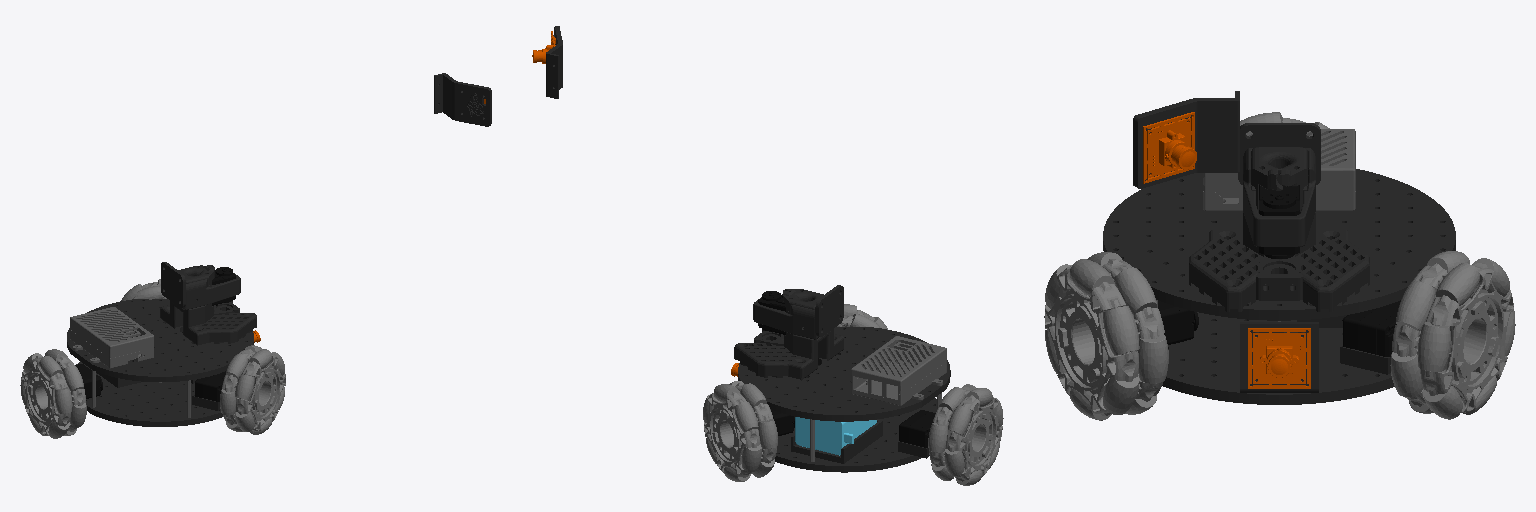
--- Render facts (derived) ---
The picture shows the robot from 3 angles, left to right: view 1: azimuth 30°, elevation 25°; view 2: azimuth 150°, elevation 25°; view 3: azimuth 270°, elevation 25°; orthographic projection.
Robot: Lekiwi — 45 links, 44 joints (6 revolute, 3 continuous, 35 fixed); root link base_link; default pose: all joints at 0.
Links seen in each view (by area): view 1: base_plate_layer2, arm_base_link, 4-Omni-Directional-Wheel_Single_Body-v1-2, 4-Omni-Directional-Wheel_Single_Body-v1-1, base_plate_layer1-v5, Top-V2-v2, arm_camera_mount, Bottom-V2-v3, ST3215_Servo_Motor-v1-1, 4-Omni-Directional-Wheel_Single_Body-v1; view 2: base_plate_layer2, arm_base_link, 4-Omni-Directional-Wheel_Single_Body-v1-2, 4-Omni-Directional-Wheel_Single_Body-v1, Top-V2-v2, base_plate_layer1-v5, Battery, Bottom-V2-v3, lipo_battery_mount, arm_camera_mount, ST3215_Servo_Motor-v1-2, 4-Omni-Directional-Wheel_Single_Body-v1-1; view 3: base_plate_layer2, arm_base_link, 4-Omni-Directional-Wheel_Single_Body-v1, 4-Omni-Directional-Wheel_Single_Body-v1-1, base_plate_layer1-v5, arm_camera_mount, Camera, Top-V2-v2, arm_camera, ST3215_Servo_Motor-v1, Camera-Mount-v8, arm_motor1 (+3 smaller).
Link boxes in pixels (x1,y1,x2,y2): base_plate_layer2: [67, 299, 253, 381]; arm_base_link: [160, 262, 256, 345]; 4-Omni-Directional-Wheel_Single_Body-v1-2: [20, 349, 86, 438]; 4-Omni-Directional-Wheel_Single_Body-v1-1: [220, 345, 285, 434]; base_plate_layer1-v5: [76, 361, 222, 426]; Top-V2-v2: [70, 307, 153, 357]; arm_camera_mount: [434, 73, 491, 126]; Bottom-V2-v3: [70, 330, 153, 368]; ST3215_Servo_Motor-v1-1: [195, 371, 225, 401]; 4-Omni-Directional-Wheel_Single_Body-v1: [121, 279, 166, 300]; base_plate_layer2: [738, 327, 950, 421]; arm_base_link: [734, 285, 843, 380]; 4-Omni-Directional-Wheel_Single_Body-v1-2: [928, 384, 1003, 485]; 4-Omni-Directional-Wheel_Single_Body-v1: [703, 381, 777, 481]; Top-V2-v2: [851, 336, 946, 397]; base_plate_layer1-v5: [775, 398, 936, 472]; Battery: [795, 417, 876, 455]; Bottom-V2-v3: [851, 352, 946, 405]; lipo_battery_mount: [791, 420, 882, 463]; arm_camera_mount: [546, 26, 562, 98]; ST3215_Servo_Motor-v1-2: [899, 410, 935, 447]; 4-Omni-Directional-Wheel_Single_Body-v1-1: [837, 304, 887, 329]; base_plate_layer2: [1103, 169, 1455, 320]; arm_base_link: [1189, 123, 1369, 311]; 4-Omni-Directional-Wheel_Single_Body-v1: [1390, 251, 1515, 419]; 4-Omni-Directional-Wheel_Single_Body-v1-1: [1044, 252, 1168, 420]; base_plate_layer1-v5: [1162, 312, 1394, 404]; arm_camera_mount: [1133, 91, 1239, 188]; Camera: [1248, 328, 1310, 388]; Top-V2-v2: [1203, 129, 1355, 198]; arm_camera: [1143, 112, 1196, 183]; ST3215_Servo_Motor-v1: [1342, 300, 1400, 356]; Camera-Mount-v8: [1240, 322, 1318, 392]; arm_motor1: [1259, 185, 1299, 258].
Size in the robot's own frame: 0.5629 by 0.2882 by 0.3507 metres.
Meshes: 28 distinct files referenced, 31 mesh visuals loaded (16 binary STL, 1 OBJ); not drawn: 11 (reference not matched to a file when rendering).

The robot description file, URDF, robot "Lekiwi":
<?xml version="1.0" ?>
<!-- =================================================================================== -->
<!-- |    This document was autogenerated by xacro from robot.xacro                    | -->
<!-- |    EDITING THIS FILE BY HAND IS NOT RECOMMENDED                                 | -->
<!-- =================================================================================== -->
<robot name="Lekiwi">
  <material name="3d_printed">
    <color rgba="0.2 0.2 0.2 1.0"/>
  </material>
  <material name="standoff">
    <color rgba="0.4 0.4 0.4 1.0"/>
  </material>
  <material name="wheel">
    <color rgba="0.5 0.5 0.5 1.0"/>
  </material>
  <material name="sts3215">
    <color rgba="0.1 0.1 0.1 1.0"/>
  </material>
  <material name="battery">
    <color rgba="0.4 0.8196 0.945 1.0"/>
  </material>
  <link name="base_link"/>
  <joint name="base_joint" type="fixed">
    <origin rpy="0 0 -1.5708"/>
    <parent link="base_link"/>
    <child link="base_plate_layer1-v5"/>
  </joint>
  <link name="base_plate_layer1-v5">
    <inertial>
      <origin rpy="0.0 0.0 0.0" xyz="-4.730687660675253e-15 -2.7155537377808555e-05 -0.0035000000000000005"/>
      <mass value="1.9468624348344596"/>
      <inertia ixx="0.005637109888809055" ixy="1.3447333053523504e-16" ixz="1.7848833522297417e-20" iyy="0.005628440956780792" iyz="2.6469779601696886e-23" izz="0.0112496514690387"/>
    </inertial>
    <visual>
      <geometry>
        <mesh filename="package://lekiwi_description/meshes/base/base_plate_layer1.stl"/>
      </geometry>
      <material name="3d_printed"/>
    </visual>
    <collision>
      <geometry>
        <mesh filename="package://lekiwi_description/meshes/base/base_plate_layer1.stl"/>
      </geometry>
    </collision>
  </link>
  <link name="drive_motor_mount-v11-2">
    <inertial>
      <origin rpy="0.0 -0.0 0.0" xyz="-0.0005387977877578853 0.00013596517365616734 -0.0031122813365712966"/>
      <mass value="0.047242276734470956"/>
      <inertia ixx="5.0825527819301506e-06" ixy="-1.350766273806132e-08" ixz="-1.2930640441004792e-07" iyy="4.311179042786683e-06" iyz="3.9985254125769694e-08" izz="8.973045405784286e-06"/>
    </inertial>
    <visual>
      <origin rpy="3.141592653589793 -0.0 1.5707963267948966" xyz="0.0 0.0 -0.0035000000000000005"/>
      <geometry>
        <mesh filename="package://lekiwi_description/meshes/base/drive_motor_mount.stl"/>
      </geometry>
      <material name="3d_printed"/>
    </visual>
    <collision>
      <origin rpy="3.141592653589793 -0.0 1.5707963267948966" xyz="0.0 0.0 -0.0035000000000000005"/>
      <geometry>
        <mesh filename="package://lekiwi_description/meshes/base/drive_motor_mount.stl"/>
      </geometry>
    </collision>
  </link>
  <link name="ST3215_Servo_Motor-v1-2">
    <inertial>
      <origin rpy="0.0 -0.0 0.0" xyz="0.010251219185305343 -0.016877183343657672 -0.021914257028179583"/>
      <mass value="0.0658962961901927"/>
      <inertia ixx="1.8215748982019337e-05" ixy="-8.885501451912254e-10" ixz="-1.7998869276666056e-09" iyy="1.391369165568997e-05" iyz="-1.195158171269568e-07" izz="1.030090838794644e-05"/>
    </inertial>
    <visual name="ST3215_Servo_Motor-v1-2_visual">
      <origin rpy="-3.141592653589793 -1.5707963267948966 0" xyz="0.010249999999999999 -0.025599999999999987 -0.007250000007450583"/>
      <geometry>
        <mesh filename="package://lekiwi_description/meshes/base/ST3215_Servo_Motor.stl"/>
      </geometry>
      <material name="sts3215"/>
    </visual>
    <collision name="ST3215_Servo_Motor-v1-2_collision">
      <origin rpy="-3.141592653589793 -1.5707963267948966 0" xyz="0.010249999999999999 -0.025599999999999987 -0.007250000007450583"/>
      <geometry>
        <mesh filename="package://lekiwi_description/meshes/base/ST3215_Servo_Motor.stl"/>
      </geometry>
    </collision>
  </link>
  <link name="4-Omni-Directional-Wheel_Single_Body-v1-2">
    <inertial>
      <origin rpy="0.0 -0.0 0.0" xyz="-9.805110055688405e-08 0.015875012090586064 -9.143534264177689e-08"/>
      <mass value="1.3542854082324305"/>
      <inertia ixx="0.0010936167993003225" ixy="-4.1677764986761383e-10" ixz="-6.83978047246436e-09" iyy="0.0018798127501507863" iyz="8.101180750536008e-12" izz="0.0010936140861738455"/>
    </inertial>
    <visual>
      <origin rpy="1.5707963267948966 0.26179938779914924 -1.0046485565123013e-33" xyz="7.450578487500081e-12 0.015874999999999986 6.661338147750939e-18"/>
      <geometry>
        <mesh filename="package://lekiwi_description/meshes/base/Omni-Directional-Wheel.stl"/>
      </geometry>
      <material name="wheel"/>
    </visual>
    <collision>
      <origin rpy="1.5707963267948966 0.26179938779914924 -1.0046485565123013e-33" xyz="7.450578487500081e-12 0.015874999999999986 6.661338147750939e-18"/>
      <geometry>
        <mesh filename="package://lekiwi_description/meshes/base/Omni-Directional-Wheel.stl"/>
      </geometry>
    </collision>
  </link>
  <link name="omni_wheel_mount-v5-2">
    <inertial>
      <origin rpy="0.0 -0.0 0.0" xyz="5.9743256737576635e-09 -5.0148034724806225e-09 -0.005522899140934374"/>
      <mass value="0.1235708646349694"/>
      <inertia ixx="1.78648151778313e-05" ixy="3.1863413372475765e-12" ixz="4.731358839058734e-14" iyy="1.7864798695374842e-05" iyz="-4.243561882097402e-14" izz="3.26402691752235e-05"/>
    </inertial>
    <visual>
      <origin rpy="3.141592653589793 6.887535064975403e-49 1.8369701987210297e-16" xyz="7.450581818169155e-12 2.220446049250313e-18 -0.005587499999999999"/>
      <geometry>
        <mesh filename="package://lekiwi_description/meshes/base/omni_wheel_mount.stl"/>
      </geometry>
      <material name="3d_printed"/>
    </visual>
    <collision>
      <origin rpy="3.141592653589793 6.887535064975403e-49 1.8369701987210297e-16" xyz="7.450581818169155e-12 2.220446049250313e-18 -0.005587499999999999"/>
      <geometry>
        <mesh filename="package://lekiwi_description/meshes/base/omni_wheel_mount.stl"/>
      </geometry>
    </collision>
  </link>
  <link name="drive_motor_mount-v11-1">
    <inertial>
      <origin rpy="0.0 -0.0 0.0" xyz="0.00038715049105024767 -0.0003986280605619008 0.0031122813365712966"/>
      <mass value="0.047242276734470956"/>
      <inertia ixx="4.515720456649471e-06" ixy="-3.4076845832425005e-07" ixz="-9.928144805471037e-08" iyy="4.8780113680673386e-06" iyz="9.199000402824292e-08" izz="8.973045405784395e-06"/>
    </inertial>
    <visual>
      <origin rpy="0.0 -0.0 0.5235987755982988" xyz="2.3027551065979426e-09 1.924311203715945e-09 0.0035000000000000005"/>
      <geometry>
        <mesh filename="package://lekiwi_description/meshes/base/drive_motor_mount.stl"/>
      </geometry>
      <material name="3d_printed"/>
    </visual>
    <collision>
      <origin rpy="0.0 -0.0 0.5235987755982988" xyz="2.3027551065979426e-09 1.924311203715945e-09 0.0035000000000000005"/>
      <geometry>
        <mesh filename="package://lekiwi_description/meshes/base/drive_motor_mount.stl"/>
      </geometry>
    </collision>
  </link>
  <link name="ST3215_Servo_Motor-v1-1">
    <inertial>
      <origin rpy="0.0 -0.0 0.0" xyz="0.01025121918530536 0.027816898485662264 -0.00435175717107704"/>
      <mass value="0.0658962961901927"/>
      <inertia ixx="1.82157489820195e-05" ixy="2.0030228758654146e-09" ixz="1.3043646559715847e-10" iyy="1.1100600471096564e-05" iyz="-1.504623135553104e-06" izz="1.3113999572540226e-05"/>
    </inertial>
    <visual>
      <origin rpy="-1.570796326794896 0.5235987755982991 -1.5707963267948968" xyz="0.010250000000000013 0.019478687706257793 -0.019238066498388086"/>
      <geometry>
        <mesh filename="package://lekiwi_description/meshes/base/ST3215_Servo_Motor.stl"/>
      </geometry>
      <material name="sts3215"/>
    </visual>
    <collision>
      <origin rpy="-1.570796326794896 0.5235987755982991 -1.5707963267948968" xyz="0.010250000000000013 0.019478687706257793 -0.019238066498388086"/>
      <geometry>
        <mesh filename="package://lekiwi_description/meshes/base/ST3215_Servo_Motor.stl"/>
      </geometry>
    </collision>
  </link>
  <link name="omni_wheel_mount-v5-1">
    <inertial>
      <origin rpy="0.0 -0.0 0.0" xyz="0.004782968825905343 5.966875074037148e-09 0.0027614494161754166"/>
      <mass value="0.1235708646349694"/>
      <inertia ixx="2.8946401592011724e-05" ixy="1.5521959531496902e-12" ixz="6.397966372990203e-06" iyy="1.7864815177831735e-05" iyz="-2.7831093278498503e-12" izz="2.155866627858642e-05"/>
    </inertial>
    <visual>
      <origin rpy="1.047197551196598 -1.1102230246251563e-16 1.5707963267948968" xyz="0.004838917318364206 -1.7763568394002505e-17 0.002793745502761027"/>
      <geometry>
        <mesh filename="package://lekiwi_description/meshes/base/omni_wheel_mount.stl"/>
      </geometry>
      <material name="3d_printed"/>
    </visual>
    <collision>
      <origin rpy="1.047197551196598 -1.1102230246251563e-16 1.5707963267948968" xyz="0.004838917318364206 -1.7763568394002505e-17 0.002793745502761027"/>
      <geometry>
        <mesh filename="package://lekiwi_description/meshes/base/omni_wheel_mount.stl"/>
      </geometry>
    </collision>
  </link>
  <link name="4-Omni-Directional-Wheel_Single_Body-v1-1">
    <inertial>
      <origin rpy="0.0 -0.0 0.0" xyz="0.01374810955311503 -0.007937600014431929 -7.105207897817323e-08"/>
      <mass value="1.3542854082324305"/>
      <inertia ixx="0.0016832621879788534" ixy="-0.0003404354598931583" ixz="-2.9730281413814508e-09" iyy="0.0012901614102005313" iyz="-4.340089721204671e-09" izz="0.0010936200374455259"/>
    </inertial>
    <visual>
      <origin rpy="-0.5235987755982988 -1.5707963267948963 0" xyz="0.013748155931950041 -0.007937495502761073 -2.2204460492503132e-17"/>
      <geometry>
        <mesh filename="package://lekiwi_description/meshes/base/Omni-Directional-Wheel.stl"/>
      </geometry>
      <material name="wheel"/>
    </visual>
    <collision>
      <origin rpy="-0.5235987755982988 -1.5707963267948963 0" xyz="0.013748155931950041 -0.007937495502761073 -2.2204460492503132e-17"/>
      <geometry>
        <mesh filename="package://lekiwi_description/meshes/base/Omni-Directional-Wheel.stl"/>
      </geometry>
    </collision>
  </link>
  <link name="drive_motor_mount-v11">
    <inertial>
      <origin rpy="0.0 -0.0 0.0" xyz="0.00015164729670767764 -0.0005345932342180682 -0.003112281336571299"/>
      <mass value="0.047242276734470956"/>
      <inertia ixx="4.492324498495657e-06" ixy="-3.2726079558618873e-07" ixz="3.002495635533459e-08" iyy="4.901407326221227e-06" iyz="-1.319752581540088e-07" izz="8.973045405784395e-06"/>
    </inertial>
    <visual>
      <origin rpy="-3.141592653589793 -1.0340504353649803e-16 -2.6179938779914944" xyz="-2.3027550621890213e-09 1.9243111992750526e-09 -0.0035000000000000035"/>
      <geometry>
        <mesh filename="package://lekiwi_description/meshes/base/drive_motor_mount.stl"/>
      </geometry>
      <material name="3d_printed"/>
    </visual>
    <collision>
      <origin rpy="-3.141592653589793 -1.0340504353649803e-16 -2.6179938779914944" xyz="-2.3027550621890213e-09 1.9243111992750526e-09 -0.0035000000000000035"/>
      <geometry>
        <mesh filename="package://lekiwi_description/meshes/base/drive_motor_mount.stl"/>
      </geometry>
      <material name="3d_printed"/>
    </collision>
  </link>
  <link name="ST3215_Servo_Motor-v1">
    <inertial>
      <origin rpy="-6.077163357286271e-64 -0.0 0.0" xyz="0.010251219185305386 -0.010539715142004517 0.02557319387622896"/>
      <mass value="0.0658962961901927"/>
      <inertia ixx="1.8215748982019662e-05" ixy="-1.1144727307283995e-09" ixz="1.6694504620406482e-09" iyy="1.1307607938668487e-05" iyz="1.6241389526799929e-06" izz="1.2906992104968112e-05"/>
    </inertial>
    <visual>
      <origin rpy="1.5707963267948968 0.523598775598299 1.5707963267948972" xyz="0.010250000000000035 0.006521312293742278 0.02579524618281096"/>
      <geometry>
        <mesh filename="package://lekiwi_description/meshes/base/ST3215_Servo_Motor.stl"/>
      </geometry>
      <material name="sts3215"/>
    </visual>
    <collision>
      <origin rpy="1.5707963267948968 0.523598775598299 1.5707963267948972" xyz="0.010250000000000035 0.006521312293742278 0.02579524618281096"/>
      <geometry>
        <mesh filename="package://lekiwi_description/meshes/base/ST3215_Servo_Motor.stl"/>
      </geometry>
    </collision>
  </link>
  <link name="omni_wheel_mount-v5">
    <inertial>
      <origin rpy="0.0 -0.0 0.0" xyz="-0.00478297352513172 5.966875045171349e-09 0.002761449724759064"/>
      <mass value="0.1235708646349694"/>
      <inertia ixx="2.8946401518511002e-05" ixy="1.634145428567116e-12" ixz="-6.397966415425984e-06" iyy="1.7864815177831735e-05" iyz="2.7357957614821196e-12" izz="2.155866635208752e-05"/>
    </inertial>
    <visual>
      <origin rpy="-1.0471975511965974 5.537547822683577e-16 1.5707963267948968" xyz="-0.004838917002787113 -4.662936703425657e-17 0.002793754497239087"/>
      <geometry>
        <mesh filename="package://lekiwi_description/meshes/base/omni_wheel_mount.stl"/>
      </geometry>
      <material name="3d_printed"/>
    </visual>
    <collision>
      <origin rpy="-1.0471975511965974 5.537547822683577e-16 1.5707963267948968" xyz="-0.004838917002787113 -4.662936703425657e-17 0.002793754497239087"/>
      <geometry>
        <mesh filename="package://lekiwi_description/meshes/base/omni_wheel_mount.stl"/>
      </geometry>
    </collision>
  </link>
  <link name="4-Omni-Directional-Wheel_Single_Body-v1">
    <inertial>
      <origin rpy="0.0 1.0947644252537633e-47 6.865185903486632e-63" xyz="-0.013748211804798878 -0.007937431357202592 -9.805855119449092e-08"/>
      <mass value="1.3542854082324305"/>
      <inertia ixx="0.00168326307714072" ixy="0.00034043401176330265" ixz="-3.0589502042488444e-09" iyy="0.0012901637591839067" iyz="6.131812470911233e-09" izz="0.001093616799300322"/>
    </inertial>
    <visual name="4-Omni-Directional-Wheel_Single_Body-v1_visual">
      <origin rpy="1.5707963267948974 -1.3089969389957468 2.094395102393195" xyz="-0.013748155616372878 -0.007937504497239081 -5.773159728050814e-17"/>
      <geometry>
        <mesh filename="package://lekiwi_description/meshes/base/Omni-Directional-Wheel.stl"/>
      </geometry>
      <material name="wheel"/>
    </visual>
    <collision name="4-Omni-Directional-Wheel_Single_Body-v1_collision">
      <origin rpy="1.5707963267948974 -1.3089969389957468 2.094395102393195" xyz="-0.013748155616372878 -0.007937504497239081 -5.773159728050814e-17"/>
      <geometry>
        <mesh filename="package://lekiwi_description/meshes/base/Omni-Directional-Wheel.stl"/>
      </geometry>
    </collision>
  </link>
  <link name="servo_controller_mount">
    <inertial>
      <origin rpy="0.0 -0.0 0.0" xyz="-2.072913100236695e-30 -3.385736135896877e-14 0.0031621761491414137"/>
      <mass value="0.12559881449596652"/>
      <inertia ixx="3.9342162518597853e-05" ixy="-1.0198295364639013e-21" ixz="-2.788880237858462e-21" iyy="2.2687082259147483e-05" iyz="-1.1248597539537109e-18" izz="6.101873120031777e-05"/>
    </inertial>
    <visual>
      <origin rpy="0.0 -0.0 1.5707963267948966" xyz="0.0 0.0 0.006000000000000001"/>
      <geometry>
        <mesh filename="package://lekiwi_description/meshes/base/servo_controller_mount.stl"/>
      </geometry>
      <material name="3d_printed"/>
    </visual>
    <collision>
      <origin rpy="0.0 -0.0 1.5707963267948966" xyz="0.0 0.0 0.006000000000000001"/>
      <geometry>
        <mesh filename="package://lekiwi_description/meshes/base/servo_controller_mount.stl"/>
      </geometry>
    </collision>
  </link>
  <link name="lipo_battery_mount">
    <inertial>
      <origin rpy="0.0 -0.0 0.0" xyz="-0.008318729060206734 -4.4408920985006264e-17 -0.0046380028574369405"/>
      <mass value="0.2984320446179905"/>
      <inertia ixx="0.00012005856115871003" ixy="-8.673617379884035e-19" ixz="3.436962366808516e-06" iyy="0.0001714977017617139" iyz="1.3552527156068805e-20" izz="0.0002832588139475423"/>
    </inertial>
    <visual>
      <origin rpy="3.141592653589793 -0.0 -1.5707963267948968" xyz="-0.01 0.0 -0.0034999999999999966"/>
      <geometry>
        <mesh filename="package://lekiwi_description/meshes/base/lipo_battery_mount.stl"/>
      </geometry>
      <material name="3d_printed"/>
    </visual>
    <collision>
      <origin rpy="3.141592653589793 -0.0 -1.5707963267948968" xyz="-0.01 0.0 -0.0034999999999999966"/>
      <geometry>
        <mesh filename="package://lekiwi_description/meshes/base/lipo_battery_mount.stl"/>
      </geometry>
    </collision>
  </link>
  <link name="Battery">
    <inertial>
      <origin rpy="0.0 -0.0 0.0" xyz="-7.797576827959673e-05 -8.300646300726023e-05 0.020000000000000004"/>
      <mass value="1.2215469988184764"/>
      <inertia ixx="0.00047597821218279624" ixy="-3.1353787147811365e-06" ixz="-8.673617379884035e-19" iyy="0.00065975897252246" iyz="1.3010426069826053e-18" izz="0.0008162228074590446"/>
    </inertial>
    <visual>
      <origin rpy="1.224646799147353e-16 -1.5707963267948966 0" xyz="-0.03499999999999998 -4.440892098500626e-18 -1.4432899320127036e-17"/>
      <geometry>
        <mesh filename="package://lekiwi_description/meshes/base/Battery.stl"/>
      </geometry>
      <material name="battery"/>
    </visual>
    <collision>
      <origin rpy="1.224646799147353e-16 -1.5707963267948966 0" xyz="-0.03499999999999998 -4.440892098500626e-18 -1.4432899320127036e-17"/>
      <geometry>
        <mesh filename="package://lekiwi_description/meshes/base/Battery.stl"/>
      </geometry>
    </collision>
  </link>
  <link name="base_plate_layer2">
    <inertial>
      <origin xyz="1.4406667835883843e-14 -0.000737848116891558 0.0034999999999999966"/>
      <mass value="1.9153836917607525"/>
      <inertia ixx="0.005568248812566009" ixy="-1.3825833742235038e-15" ixz="1.6063950170089246e-19" iyy="0.00562277090534615" iyz="1.3552527156068805e-20" izz="0.01117537741776278"/>
    </inertial>
    <visual>
      <origin xyz="0.0 -6.430841866638185e-19 0.006999999999999993"/>
      <geometry>
        <mesh filename="package://lekiwi_description/meshes/base/base_plate_layer2.stl"/>
      </geometry>
      <material name="3d_printed"/>
    </visual>
    <collision>
      <origin xyz="0.0 -6.430841866638185e-19 0.006999999999999993"/>
      <geometry>
        <mesh filename="package://lekiwi_description/meshes/base/base_plate_layer2.stl"/>
      </geometry>
    </collision>
  </link>
  <link name="Bottom-V2-v3">
    <inertial>
      <origin rpy="0.0 -0.0 0.0" xyz="0.021623799145011228 0.034248555702746215 0.002860022373659428"/>
      <mass value="0.14588862570926195"/>
      <inertia ixx="5.861212367196979e-05" ixy="1.504419769130789e-06" ixz="-2.5907710844293995e-06" iyy="0.00012648590487769422" iyz="7.708271472892277e-07" izz="0.0001820968398762769"/>
    </inertial>
    <visual>
      <origin rpy="4.2524008931839986e-17 3.472469791440238e-17 -3.141592653589793" xyz="0.019999999970197697 0.03599999999999999 1.3322676295501878e-16"/>
      <geometry>
        <mesh filename="package://lekiwi_description/meshes/RaspberryPi_shell/Bottom.stl"/>
      </geometry>
      <material name="standoff"/>
    </visual>
    <collision>
      <origin rpy="4.2524008931839986e-17 3.472469791440238e-17 -3.141592653589793" xyz="0.019999999970197697 0.03599999999999999 1.3322676295501878e-16"/>
      <geometry>
        <mesh filename="package://lekiwi_description/meshes/RaspberryPi_shell/Bottom.stl"/>
      </geometry>
    </collision>
  </link>
  <link name="Top-V2-v2">
    <inertial>
      <origin rpy="0.0 -0.0 0.0" xyz="0.00394392416615524 -0.00045096335632409 0.021552698750372336"/>
      <mass value="0.1256590419653392"/>
      <inertia ixx="5.8982381320791524e-05" ixy="-1.6170683703386755e-07" ixz="2.7949770042390678e-06" iyy="0.00013338786905954623" iyz="5.073018525688332e-07" izz="0.00018586375094365218"/>
    </inertial>
    <visual>
      <origin rpy="-3.141592653589793 3.851859888774472e-34 -3.141592653589793" xyz="0.0003002260252632436 -0.00012500000000001065 0.026499570509487737"/>
      <geometry>
        <mesh filename="package://lekiwi_description/meshes/RaspberryPi_shell/Top.stl"/>
      </geometry>
      <material name="standoff"/>
    </visual>
    <collision>
      <origin rpy="-3.141592653589793 3.851859888774472e-34 -3.141592653589793" xyz="0.0003002260252632436 -0.00012500000000001065 0.026499570509487737"/>
      <geometry>
        <mesh filename="package://lekiwi_description/meshes/RaspberryPi_shell/Top.stl"/>
      </geometry>
    </collision>
  </link>
  <link name="Camera-Mount-v8">
    <inertial>
      <origin rpy="0.0 -0.0 0.0" xyz="-0.019889007343132665 0.003162253231103023 0.020248493842242046"/>
      <mass value="0.09265469509875414"/>
      <inertia ixx="1.7978739433416715e-05" ixy="2.2659313403750657e-08" ixz="-1.7551355004084038e-07" iyy="3.514579199775795e-05" iyz="1.493014354660236e-06" izz="1.872943107726426e-05"/>
    </inertial>
    <visual>
      <origin rpy="0.0 -0.0 1.5707963267948966" xyz="-0.020000000000000046 0.0 0.0"/>
      <geometry>
        <mesh filename="package://lekiwi_description/meshes/base/camera_mount.stl"/>
      </geometry>
      <material name="3d_printed"/>
    </visual>
    <collision>
      <origin rpy="0.0 -0.0 1.5707963267948966" xyz="-0.020000000000000046 0.0 0.0"/>
      <geometry>
        <mesh filename="package://lekiwi_description/meshes/base/camera_mount.stl"/>
      </geometry>
    </collision>
  </link>
  <link name="Camera">
    <inertial>
      <origin xyz="-0.01552129548236823 0.006733132771749837 -0.011599583774026805"/>
      <mass value="0.039920058315088616"/>
      <inertia ixx="5.3846132096854386e-06" ixy="3.6969144888008537e-07" ixz="3.317962541199677e-08" iyy="7.612080863465678e-06" iyz="-9.014266851093004e-08" izz="5.20250984027362e-06"/>
    </inertial>
    <visual>
      <geometry>
        <mesh filename="package://so_arm_description/meshes/so101/camera.obj"/>
      </geometry>
    </visual>
    <collision>
      <geometry>
        <mesh filename="package://so_arm_description/meshes/so101/camera.obj"/>
      </geometry>
    </collision>
  </link>
  <link name="94868A713_NO-THREADS_Female-Threaded-Hex-Standoff">
    <inertial>
      <origin rpy="0.0 -0.0 0.0" xyz="2.1864399078485972e-14 1.2010287410706806e-09 -0.02499999330297986"/>
      <mass value="0.006150070863406618"/>
      <inertia ixx="1.0965196650850464e-06" ixy="-3.0209076389532564e-20" ixz="-2.6974127807751317e-18" iyy="1.096519654894581e-06" iyz="-9.149560120561933e-14" izz="1.837396493115053e-08"/>
    </inertial>
    <visual>
      <origin rpy="3.141592653589793 -0.0 0.0" xyz="0.0 -1.3010426069826053e-18 -0.025"/>
      <geometry>
        <mesh filename="package://lekiwi_description/meshes/base/Standoff.stl"/>
      </geometry>
      <material name="standoff"/>
    </visual>
    <collision>
      <origin rpy="3.141592653589793 -0.0 0.0" xyz="0.0 -1.3010426069826053e-18 -0.025"/>
      <geometry>
        <mesh filename="package://lekiwi_description/meshes/base/Standoff.stl"/>
      </geometry>
    </collision>
  </link>
  <link name="94868A713_NO-THREADS_Female-Threaded-Hex-Standoff-1">
    <inertial>
      <origin rpy="0.0 -0.0 0.0" xyz="2.1866952693017084e-14 1.201028743125221e-09 -0.02499999330297986"/>
      <mass value="0.006150070863406618"/>
      <inertia ixx="1.0965196650850456e-06" ixy="-2.879912020664621e-20" ixz="-2.6969529040576923e-18" iyy="1.0965196548945862e-06" iyz="-9.149560026045249e-14" izz="1.837396493115063e-08"/>
    </inertial>
    <visual>
      <origin rpy="3.141592653589793 -0.0 0.0" xyz="0.0 0.0 -0.025"/>
      <geometry>
        <mesh filename="package://lekiwi_description/meshes/base/Standoff.stl"/>
      </geometry>
      <material name="standoff"/>
    </visual>
    <collision>
      <origin rpy="3.141592653589793 -0.0 0.0" xyz="0.0 0.0 -0.025"/>
      <geometry>
        <mesh filename="package://lekiwi_description/meshes/base/Standoff.stl"/>
      </geometry>
    </collision>
  </link>
  <link name="94868A713_NO-THREADS_Female-Threaded-Hex-Standoff-2">
    <inertial>
      <origin rpy="0.0 -0.0 0.0" xyz="2.1866952693017084e-14 1.201028743125221e-09 -0.02481596290467566"/>
      <mass value="0.006150070863406618"/>
      <inertia ixx="1.0965196650850456e-06" ixy="-3.3881317890172014e-20" ixz="-2.6969529040576923e-18" iyy="1.0965196548945997e-06" iyz="-9.149560068396896e-14" izz="1.837396493115063e-08"/>
    </inertial>
    <visual>
      <origin rpy="3.141592653589793 -0.0 0.0" xyz="0.0 0.0 -0.0248159696016958"/>
      <geometry>
        <mesh filename="package://lekiwi_description/meshes/base/Standoff.stl"/>
      </geometry>
      <material name="standoff"/>
    </visual>
    <collision>
      <origin rpy="3.141592653589793 -0.0 0.0" xyz="0.0 0.0 -0.0248159696016958"/>
      <geometry>
        <mesh filename="package://lekiwi_description/meshes/base/Standoff.stl"/>
      </geometry>
    </collision>
  </link>
  <link name="94868A713_NO-THREADS_Female-Threaded-Hex-Standoff-3">
    <inertial>
      <origin rpy="0.0 -0.0 0.0" xyz="-3.784219515523546e-10 -7.23282504999645e-10 -0.024999993302979855"/>
      <mass value="0.006150070863406618"/>
      <inertia ixx="1.0965196650850464e-06" ixy="-2.710505431213761e-20" ixz="-2.6969529040576923e-18" iyy="1.0965196548945726e-06" iyz="-9.149560110748543e-14" izz="1.8373964931164182e-08"/>
    </inertial>
    <visual>
      <origin rpy="3.141592653589793 -0.0 0.0" xyz="-3.784438185050476e-10 -1.924311248124866e-09 -0.02499999999999999"/>
      <geometry>
        <mesh filename="package://lekiwi_description/meshes/base/Standoff.stl"/>
      </geometry>
      <material name="standoff"/>
    </visual>
    <collision>
      <origin rpy="3.141592653589793 -0.0 0.0" xyz="-3.784438185050476e-10 -1.924311248124866e-09 -0.02499999999999999"/>
      <geometry>
        <mesh filename="package://lekiwi_description/meshes/base/Standoff.stl"/>
      </geometry>
    </collision>
  </link>
  <link name="94868A713_NO-THREADS_Female-Threaded-Hex-Standoff-4">
    <inertial>
      <origin rpy="0.0 -0.0 0.0" xyz="3.784657565120142e-10 3.1253399868091947e-09 -0.02499999330297986"/>
      <mass value="0.006150070863406618"/>
      <inertia ixx="1.0965196650850498e-06" ixy="-2.710505431213761e-20" ixz="-2.6969529040576923e-18" iyy="1.0965196548945862e-06" iyz="-9.149560110748543e-14" izz="1.8373964931164182e-08"/>
    </inertial>
    <visual>
      <origin rpy="3.141592653589793 -0.0 0.0" xyz="3.784438895593212e-10 1.924311243683974e-09 -0.025"/>
      <geometry>
        <mesh filename="package://lekiwi_description/meshes/base/Standoff.stl"/>
      </geometry>
      <material name="standoff"/>
    </visual>
    <collision>
      <origin rpy="3.141592653589793 -0.0 0.0" xyz="3.784438895593212e-10 1.924311243683974e-09 -0.025"/>
      <geometry>
        <mesh filename="package://lekiwi_description/meshes/base/Standoff.stl"/>
      </geometry>
    </collision>
  </link>
  <link name="94868A713_NO-THREADS_Female-Threaded-Hex-Standoff-5">
    <inertial>
      <origin rpy="0.0 -0.0 0.0" xyz="2.1862511800918584e-14 1.2010287342434368e-09 -0.02499999330297986"/>
      <mass value="0.006150070863406618"/>
      <inertia ixx="1.096519665085043e-06" ixy="-3.218725199566341e-20" ixz="-2.6969529040576923e-18" iyy="1.0965196548945802e-06" iyz="-9.149560110748543e-14" izz="1.837396493115063e-08"/>
    </inertial>
    <visual>
      <origin rpy="3.141592653589793 -0.0 0.0" xyz="0.0 0.0 -0.025"/>
      <geometry>
        <mesh filename="package://lekiwi_description/meshes/base/Standoff.stl"/>
      </geometry>
      <material name="standoff"/>
    </visual>
    <collision>
      <origin rpy="3.141592653589793 -0.0 0.0" xyz="0.0 0.0 -0.025"/>
      <geometry>
        <mesh filename="package://lekiwi_description/meshes/base/Standoff.stl"/>
      </geometry>
    </collision>
  </link>
  <joint name="base_plate_layer1-v5_baseplate2bottom_mount" type="fixed">
    <origin rpy="3.141592653589793 -0.0 0.0" xyz="-0.02 -0.1 0.0"/>
    <parent link="base_plate_layer1-v5"/>
    <child link="drive_motor_mount-v11-2"/>
  </joint>
  <joint name="drive_motor_mount-v11-2_Rigid-2" type="fixed">
    <origin rpy="3.141592653589793 1.5707963267948966 0" xyz="-0.01214 -0.015999999999999997 -0.0076100000000000004"/>
    <parent link="drive_motor_mount-v11-2"/>
    <child link="ST3215_Servo_Motor-v1-2"/>
  </joint>
  <joint name="omni_wheel_mount-v5-2_Rigid-61" type="fixed">
    <origin rpy="-1.5707963267948966 -0.0 0.0" xyz="0.0 0.0 -0.007174999999999994"/>
    <parent link="omni_wheel_mount-v5-2"/>
    <child link="4-Omni-Directional-Wheel_Single_Body-v1-2"/>
  </joint>
  <joint name="motor_joint2" type="continuous">
    <origin rpy="-1.5707963267948966 1.5707963267948966 0" xyz="0.010249999999999999 -0.035199999999999995 -0.03275"/>
    <parent link="ST3215_Servo_Motor-v1-2"/>
    <child link="omni_wheel_mount-v5-2"/>
    <axis xyz="0.0 0.0 -1.0"/>
  </joint>
  <joint name="base_plate_layer1-v5_baseplate2right_mount" type="fixed">
    <origin rpy="0.0 -0.0 0.0" xyz="0.07928203 0.022679490000000004 0.0"/>
    <parent link="base_plate_layer1-v5"/>
    <child link="drive_motor_mount-v11-1"/>
  </joint>
  <joint name="drive_motor_mount-v11-1_Rigid-35" type="fixed">
    <origin rpy="-7.401486830834375e-17 -1.5707963267948966 0" xyz="-0.007786400000000002 -0.018513550000000004 0.0076100000000000004"/>
    <parent link="drive_motor_mount-v11-1"/>
    <child link="ST3215_Servo_Motor-v1-1"/>
  </joint>
  <joint name="motor_joint1" type="continuous">
    <origin rpy="-1.5707963267948966 1.5707963267948966 0" xyz="0.010249999999999999 0.04636234 -0.014801910000000005"/>
    <parent link="ST3215_Servo_Motor-v1-1"/>
    <child link="omni_wheel_mount-v5-1"/>
    <axis xyz="0.866025 1.0674582272562919e-32 0.5"/>
  </joint>
  <joint name="omni_wheel_mount-v5-1_Rigid-63" type="fixed">
    <origin rpy="-1.5707963267948966 5.551115123125765e-17 -1.8816263559048997e-48" xyz="0.0062137300000000015 0.0 0.0035875000000000056"/>
    <parent link="omni_wheel_mount-v5-1"/>
    <child link="4-Omni-Directional-Wheel_Single_Body-v1-1"/>
  </joint>
  <joint name="base_plate_layer1-v5_baseplate2left_mount" type="fixed">
    <origin rpy="3.141592653589793 -0.0 0.0" xyz="-0.05928203 0.057320510000000005 0.0"/>
    <parent link="base_plate_layer1-v5"/>
    <child link="drive_motor_mount-v11"/>
  </joint>
  <joint name="drive_motor_mount-v11_Rigid-39" type="fixed">
    <origin rpy="3.141592653589793 1.5707963267948966 0" xyz="0.019926399999999997 -0.0025135499999999933 -0.0076100000000000004"/>
    <parent link="drive_motor_mount-v11"/>
    <child link="ST3215_Servo_Motor-v1"/>
  </joint>
  <joint name="motor_joint0" type="continuous">
    <origin rpy="-1.5707963267948966 1.5707963267948966 0" xyz="0.010249999999999999 -0.010762340000000004 0.046859090000000006"/>
    <parent link="ST3215_Servo_Motor-v1"/>
    <child link="omni_wheel_mount-v5"/>
    <axis xyz="-0.866025 -2.0578792567370943e-32 0.5"/>
  </joint>
  <joint name="omni_wheel_mount-v5_Rigid-65" type="fixed">
    <origin rpy="-1.5707963267948966 5.551115123125802e-17 4.930380657631324e-32" xyz="-0.0062137300000000015 0.0 0.003587499999999997"/>
    <parent link="omni_wheel_mount-v5"/>
    <child link="4-Omni-Directional-Wheel_Single_Body-v1"/>
  </joint>
  <joint name="base_plate_layer1-v5_Rigid-15" type="fixed">
    <origin rpy="0.0 -0.0 0.0" xyz="0.0 0.06 0.0"/>
    <parent link="base_plate_layer1-v5"/>
    <child link="servo_controller_mount"/>
  </joint>
  <joint name="base_plate_layer1-v5_Rigid-18" type="fixed">
    <origin rpy="3.141592653589793 -0.0 0.0" xyz="-0.04 -0.02 0.0"/>
    <parent link="base_plate_layer1-v5"/>
    <child link="lipo_battery_mount"/>
  </joint>
  <joint name="battery_mount_joint" type="fixed">
    <origin rpy="3.141592653589793 -0.0 0.0" xyz="-0.011500000000000003 0.0 -0.006500000000000001"/>
    <parent link="lipo_battery_mount"/>
    <child link="Battery"/>
  </joint>
  <joint name="base_plate_layer1-v5_Rigid-20" type="fixed">
    <origin rpy="3.141592653589793 -0.0 0.0" xyz="0.0 0.0 0.0"/>
    <parent link="base_plate_layer1-v5"/>
    <child link="94868A713_NO-THREADS_Female-Threaded-Hex-Standoff"/>
  </joint>
  <joint name="94868A713_NO-THREADS_Female-Threaded-Hex-Standoff_Rigid-21" type="fixed">
    <origin rpy="3.141592653589793 -0.0 0.0" xyz="0.0 0.0 -0.05"/>
    <parent link="94868A713_NO-THREADS_Female-Threaded-Hex-Standoff"/>
    <child link="base_plate_layer2"/>
  </joint>
  <joint name="base_plate_layer2_Rigid-22" type="fixed">
    <origin rpy="0.0 -0.0 0.0" xyz="-0.02 -0.1 0.007000000000000002"/>
    <parent link="base_plate_layer2"/>
    <child link="Bottom-V2-v3"/>
  </joint>
  <joint name="Bottom-V2-v3_Rigid-24" type="fixed">
    <origin rpy="0.0 -0.0 -2.465190328815662e-32" xyz="0.0197 0.036125 0.0025"/>
    <parent link="Bottom-V2-v3"/>
    <child link="Top-V2-v2"/>
  </joint>
  <joint name="base_plate_layer1-v5_Rigid-28" type="fixed">
    <origin rpy="0.0 -0.0 0.0" xyz="0.02 0.1 0.0"/>
    <parent link="base_plate_layer1-v5"/>
    <child link="Camera-Mount-v8"/>
  </joint>
  <joint name="Camera-Mount-v8_Rigid-29" type="fixed">
    <origin rpy="0 -0.17454 1.57" xyz="-0.02 0.0088 0.025"/>
    <parent link="Camera-Mount-v8"/>
    <child link="Camera"/>
  </joint>
  <joint name="base_plate_layer1-v5_Rigid-30" type="fixed">
    <origin rpy="3.141592653589793 -0.0 0.0" xyz="0.02 -0.1 0.0"/>
    <parent link="base_plate_layer1-v5"/>
    <child link="94868A713_NO-THREADS_Female-Threaded-Hex-Standoff-5"/>
  </joint>
  <joint name="base_plate_layer1-v5_Rigid-31" type="fixed">
    <origin rpy="3.141592653589793 -0.0 0.0" xyz="0.07660254 0.06732051 0.0"/>
    <parent link="base_plate_layer1-v5"/>
    <child link="94868A713_NO-THREADS_Female-Threaded-Hex-Standoff-4"/>
  </joint>
  <joint name="base_plate_layer1-v5_Rigid-32" type="fixed">
    <origin rpy="3.141592653589793 -0.0 0.0" xyz="-0.09660254 0.032679490000000005 0.0"/>
    <parent link="base_plate_layer1-v5"/>
    <child link="94868A713_NO-THREADS_Female-Threaded-Hex-Standoff-3"/>
  </joint>
  <joint name="base_plate_layer1-v5_Rigid-69" type="fixed">
    <origin rpy="3.141592653589793 -0.0 0.0" xyz="0.1 -0.02 0.0"/>
    <parent link="base_plate_layer1-v5"/>
    <child link="94868A713_NO-THREADS_Female-Threaded-Hex-Standoff-2"/>
  </joint>
  <joint name="base_plate_layer1-v5_Rigid-70" type="fixed">
    <origin rpy="3.141592653589793 -0.0 0.0" xyz="-0.1 -0.02 0.0"/>
    <parent link="base_plate_layer1-v5"/>
    <child link="94868A713_NO-THREADS_Female-Threaded-Hex-Standoff-1"/>
  </joint>
  <joint name="arm_mount_joint" type="fixed">
    <origin rpy="0 0 1.5708" xyz="0 0.04 0.007"/>
    <parent link="base_plate_layer2"/>
    <child link="arm_base_link"/>
  </joint>
  <joint name="arm_camera_mount_joint" type="fixed">
    <origin rpy="3.1416 0 -1.5708" xyz="0 -0.016 -0.024"/>
    <parent link="arm_Fixed_Jaw"/>
    <child link="arm_camera_mount"/>
  </joint>
  <joint name="arm_camera_joint" type="fixed">
    <origin rpy="0 0.61086 0" xyz="0.02556 0 0.04370"/>
    <parent link="arm_camera_mount"/>
    <child link="arm_camera"/>
  </joint>
  <link name="arm_camera_mount">
    <inertial>
      <origin rpy="0.0 -0.0 0.0" xyz="-0.012386670399303806 -0.0001931819643147037 0.033744611486572575"/>
      <mass value="0.14254654385043797"/>
      <inertia ixx="6.637825885912572e-05" ixy="-1.9686261197744952e-08" ixz="-2.8501487566848823e-07" iyy="9.286021404085985e-05" iyz="5.578936388252534e-07" izz="2.9364578730897446e-05"/>
    </inertial>
    <visual>
      <geometry>
        <mesh filename="package://lekiwi_description/meshes/base/wrist_camera_mount.stl"/>
      </geometry>
      <material name="3d_printed"/>
    </visual>
    <collision>
      <geometry>
        <mesh filename="package://lekiwi_description/meshes/base/wrist_camera_mount.stl"/>
      </geometry>
    </collision>
  </link>
  <link name="arm_camera">
    <inertial>
      <origin xyz="-0.01552129548236823 0.006733132771749837 -0.011599583774026805"/>
      <mass value="0.039920058315088616"/>
      <inertia ixx="5.3846132096854386e-06" ixy="3.6969144888008537e-07" ixz="3.317962541199677e-08" iyy="7.612080863465678e-06" iyz="-9.014266851093004e-08" izz="5.20250984027362e-06"/>
    </inertial>
    <visual>
      <geometry>
        <mesh filename="package://so_arm_description/meshes/so101/camera.obj"/>
      </geometry>
    </visual>
    <collision>
      <geometry>
        <mesh filename="package://so_arm_description/meshes/so101/camera.obj"/>
      </geometry>
    </collision>
  </link>
  <link name="arm_base_link">
    <inertial>
      <origin xyz="0 0.0311418169687909 0.0175746661003382"/>
      <mass value="0.193184127927598"/>
      <inertia ixx="0.000137030709467877" ixy="2.10136126944992E-08" ixz="4.24087422551286E-09" iyy="0.000169089551209259" iyz="2.26514711036514E-05" izz="0.000145097720857224"/>
    </inertial>
    <visual name="base_link_chassis">
      <geometry>
        <mesh filename="package://so_arm_description/meshes/so100/Base.stl"/>
      </geometry>
      <material name="3d_printed"/>
    </visual>
    <collision>
      <geometry>
        <mesh filename="package://so_arm_description/meshes/so100/Base.stl"/>
      </geometry>
    </collision>
  </link>
  <link name="arm_motor1">
    <visual>
      <geometry>
        <mesh filename="package://so_arm_description/meshes/so100/Base_Motor.stl"/>
      </geometry>
      <material name="sts3215"/>
    </visual>
    <collision>
      <geometry>
        <mesh filename="package://so_arm_description/meshes/so100/Base_Motor.stl"/>
      </geometry>
    </collision>
  </link>
  <joint name="arm_motor1_joint" type="fixed">
    <origin xyz="0 0 0"/>
    <parent link="arm_base_link"/>
    <child link="arm_motor1"/>
  </joint>
  <link name="arm_Rotation_Pitch">
    <inertial>
      <origin xyz="-9.07886224712597E-05 0.0590971820568318 0.031089016892169"/>
      <mass value="0.119226314127197"/>
      <inertia ixx="5.90408775624429E-05" ixy="4.90800532852998E-07" ixz="-5.90451772654387E-08" iyy="3.21498601038881E-05" iyz="-4.58026206663885E-06" izz="5.86058514263952E-05"/>
    </inertial>
    <visual name="rotation_pitch_chassis">
      <geometry>
        <mesh filename="package://so_arm_description/meshes/so100/Rotation_Pitch.stl"/>
      </geometry>
      <material name="3d_printed"/>
    </visual>
    <collision>
      <geometry>
        <mesh filename="package://so_arm_description/meshes/so100/Rotation_Pitch.stl"/>
      </geometry>
    </collision>
  </link>
  <link name="arm_motor2">
    <visual>
      <geometry>
        <mesh filename="package://so_arm_description/meshes/so100/Rotation_Pitch_Motor.stl"/>
      </geometry>
      <material name="sts3215"/>
    </visual>
    <collision>
      <geometry>
        <mesh filename="package://so_arm_description/meshes/so100/Rotation_Pitch_Motor.stl"/>
      </geometry>
    </collision>
  </link>
  <joint name="arm_motor2_joint" type="fixed">
    <origin xyz="0 0 0"/>
    <parent link="arm_Rotation_Pitch"/>
    <child link="arm_motor2"/>
  </joint>
  <joint name="arm_shoulder_pan" type="revolute">
    <origin rpy="1.5708 0 1.5708" xyz="0.0452 0 0.0165"/>
    <parent link="arm_base_link"/>
    <child link="arm_Rotation_Pitch"/>
    <axis xyz="0 -1 0"/>
    <limit effort="0" lower="-2.0" upper="2.0" velocity="0"/>
  </joint>
  <link name="arm_Upper_Arm">
    <inertial>
      <origin xyz="-1.7205170190925E-05 0.0701802156327694 0.00310545118155671"/>
      <mass value="0.162409284599177"/>
      <inertia ixx="0.000167153146617081" ixy="1.03902689187701E-06" ixz="-1.20161820645189E-08" iyy="7.01946992214245E-05" iyz="2.11884806298698E-06" izz="0.000213280241160769"/>
    </inertial>
    <visual name="upper_arm_chassis">
      <geometry>
        <mesh filename="package://so_arm_description/meshes/so100/Upper_Arm.stl"/>
      </geometry>
      <material name="3d_printed"/>
    </visual>
    <collision>
      <geometry>
        <mesh filename="package://so_arm_description/meshes/so100/Upper_Arm.stl"/>
      </geometry>
    </collision>
  </link>
  <link name="arm_motor3">
    <visual>
      <geometry>
        <mesh filename="package://so_arm_description/meshes/so100/Upper_Arm_Motor.stl"/>
      </geometry>
      <material name="sts3215"/>
    </visual>
    <collision>
      <geometry>
        <mesh filename="package://so_arm_description/meshes/so100/Upper_Arm_Motor.stl"/>
      </geometry>
    </collision>
  </link>
  <joint name="arm_motor3_joint" type="fixed">
    <origin xyz="0 0 0"/>
    <parent link="arm_Upper_Arm"/>
    <child link="arm_motor3"/>
  </joint>
  <joint name="arm_shoulder_lift" type="revolute">
    <origin xyz="0 0.1025 0.0306"/>
    <parent link="arm_Rotation_Pitch"/>
    <child link="arm_Upper_Arm"/>
    <axis xyz="1 0 0"/>
    <limit effort="0" lower="-1.5708" upper="1.5708" velocity="0"/>
  </joint>
  <link name="arm_Lower_Arm">
    <inertial>
      <origin xyz="-0.00339603710186651 0.00137796353960074 0.0768006751156044"/>
      <mass value="0.147967774582291"/>
      <inertia ixx="0.000105333995841409" ixy="1.73059237226499E-07" ixz="-1.1720305455211E-05" iyy="0.000138766654485212" iyz="1.77429964684103E-06" izz="5.08741652515214E-05"/>
    </inertial>
    <visual name="lower_arm_chassis">
      <geometry>
        <mesh filename="package://so_arm_description/meshes/so100/Lower_Arm.stl"/>
      </geometry>
      <material name="3d_printed"/>
    </visual>
    <collision>
      <geometry>
        <mesh filename="package://so_arm_description/meshes/so100/Lower_Arm.stl"/>
      </geometry>
    </collision>
  </link>
  <link name="arm_motor4">
    <visual>
      <geometry>
        <mesh filename="package://so_arm_description/meshes/so100/Lower_Arm_Motor.stl"/>
      </geometry>
      <material name="sts3215"/>
    </visual>
    <collision>
      <geometry>
        <mesh filename="package://so_arm_description/meshes/so100/Lower_Arm_Motor.stl"/>
      </geometry>
    </collision>
  </link>
  <joint name="arm_motor4_joint" type="fixed">
    <origin xyz="0 0 0"/>
    <parent link="arm_Lower_Arm"/>
    <child link="arm_motor4"/>
  </joint>
  <joint name="arm_elbow_flex" type="revolute">
    <origin xyz="0 0.11257 0.028"/>
    <parent link="arm_Upper_Arm"/>
    <child link="arm_Lower_Arm"/>
    <axis xyz="1 0 0"/>
    <limit effort="0" lower="-1.5708" upper="1.5708" velocity="0"/>
  </joint>
  <link name="arm_Wrist_Pitch_Roll">
    <inertial>
      <origin xyz="-0.00852653127372418 -0.0352278997897927 -2.34622481569413E-05"/>
      <mass value="0.066132067097723"/>
      <inertia ixx="1.95717492443445E-05" ixy="-6.62714374412293E-07" ixz="5.20089016442066E-09" iyy="2.38028417569933E-05" iyz="4.09549055863776E-08" izz="3.4540143384536E-05"/>
    </inertial>
    <visual name="wrist_pitch_roll_chassis">
      <geometry>
        <mesh filename="package://so_arm_description/meshes/so100/Wrist_Pitch_Roll.stl"/>
      </geometry>
      <material name="3d_printed"/>
    </visual>
    <collision>
      <geometry>
        <mesh filename="package://so_arm_description/meshes/so100/Wrist_Pitch_Roll.stl"/>
      </geometry>
    </collision>
  </link>
  <link name="arm_motor5">
    <visual>
      <geometry>
        <mesh filename="package://so_arm_description/meshes/so100/Wrist_Pitch_Roll_Motor.stl"/>
      </geometry>
      <material name="sts3215"/>
    </visual>
    <collision>
      <geometry>
        <mesh filename="package://so_arm_description/meshes/so100/Wrist_Pitch_Roll_Motor.stl"/>
      </geometry>
    </collision>
  </link>
  <joint name="arm_motor5_joint" type="fixed">
    <origin xyz="0 0 0"/>
    <parent link="arm_Wrist_Pitch_Roll"/>
    <child link="arm_motor5"/>
  </joint>
  <joint name="arm_wrist_flex" type="revolute">
    <origin rpy="-1.5708 0 0" xyz="0 0.0052 0.1349"/>
    <parent link="arm_Lower_Arm"/>
    <child link="arm_Wrist_Pitch_Roll"/>
    <axis xyz="1 0 0"/>
    <limit effort="0" lower="-1.8" upper="1.8" velocity="0"/>
  </joint>
  <link name="arm_Fixed_Jaw">
    <inertial>
      <origin xyz="0.00552376906426563 -0.0280167153359021 0.000483582592841092"/>
      <mass value="0.0929859131176897"/>
      <inertia ixx="4.3328249304211E-05" ixy="7.09654328670947E-06" ixz="5.99838530879484E-07" iyy="3.04451747368212E-05" iyz="-1.58743247545413E-07" izz="5.02460913506734E-05"/>
    </inertial>
    <visual name="fixed_jaw_chassis">
      <geometry>
        <mesh filename="package://so_arm_description/meshes/so100/Fixed_Jaw.stl"/>
      </geometry>
      <material name="3d_printed"/>
    </visual>
    <collision>
      <geometry>
        <mesh filename="package://so_arm_description/meshes/so100/Fixed_Jaw_part1.ply"/>
      </geometry>
    </collision>
    <collision>
      <geometry>
        <mesh filename="package://so_arm_description/meshes/so100/Fixed_Jaw_part2.ply"/>
      </geometry>
    </collision>
  </link>
  <link name="arm_motor6">
    <visual>
      <geometry>
        <mesh filename="package://so_arm_description/meshes/so100/Fixed_Jaw_Motor.stl"/>
      </geometry>
      <material name="sts3215"/>
    </visual>
  </link>
  <joint name="arm_motor6_joint" type="fixed">
    <origin xyz="0 0 0"/>
    <parent link="arm_Fixed_Jaw"/>
    <child link="arm_motor6"/>
  </joint>
  <joint name="arm_wrist_roll" type="revolute">
    <origin rpy="0 1.5708 0" xyz="0 -0.0601 0"/>
    <parent link="arm_Wrist_Pitch_Roll"/>
    <child link="arm_Fixed_Jaw"/>
    <axis xyz="0 1 0"/>
    <limit effort="0" lower="-3.14159" upper="3.14159" velocity="0"/>
  </joint>
  <link name="arm_Moving_Jaw">
    <inertial>
      <origin xyz="-0.00161744605468241 -0.0303472584046471 0.000449645961853651"/>
      <mass value="0.0202443794940372"/>
      <inertia ixx="1.10911325081525E-05" ixy="-5.35076503033314E-07" ixz="-9.46105662101403E-09" iyy="3.03576451001973E-06" iyz="-1.71146075110632E-07" izz="8.9916083370498E-06"/>
    </inertial>
    <visual name="moving_jaw_chassis">
      <geometry>
        <mesh filename="package://so_arm_description/meshes/so100/Moving_Jaw.stl"/>
      </geometry>
      <material name="3d_printed"/>
    </visual>
    <collision>
      <geometry>
        <mesh filename="package://so_arm_description/meshes/so100/Moving_Jaw_part1.ply"/>
      </geometry>
    </collision>
    <collision>
      <geometry>
        <mesh filename="package://so_arm_description/meshes/so100/Moving_Jaw_part2.ply"/>
      </geometry>
    </collision>
    <collision>
      <geometry>
        <mesh filename="package://so_arm_description/meshes/so100/Moving_Jaw_part3.ply"/>
      </geometry>
    </collision>
  </link>
  <joint name="arm_gripper" type="revolute">
    <origin rpy="0 3.14159 -0.9" xyz="-0.0202 -0.0244 0"/>
    <parent link="arm_Fixed_Jaw"/>
    <child link="arm_Moving_Jaw"/>
    <axis xyz="0 0 1"/>
    <limit effort="0" lower="-1.1" upper="1.1" velocity="0"/>
  </joint>
  <!-- fake joints for useful data -->
  <joint name="arm_fixed_jaw_tip_joint" type="fixed">
    <origin rpy="1.5708 0 -1.5708" xyz="0.01 -0.097 0"/>
    <parent link="arm_Fixed_Jaw"/>
    <child link="arm_fixed_jaw_tip"/>
  </joint>
  <link name="arm_fixed_jaw_tip"/>
  <joint name="arm_Moving_Jaw_tip_joint" type="fixed">
    <origin rpy="-1.5708 0 -1.5708" xyz="-0.01 -0.073 0"/>
    <parent link="arm_Moving_Jaw"/>
    <child link="arm_Moving_Jaw_tip"/>
  </joint>
  <link name="arm_Moving_Jaw_tip"/>
</robot>
